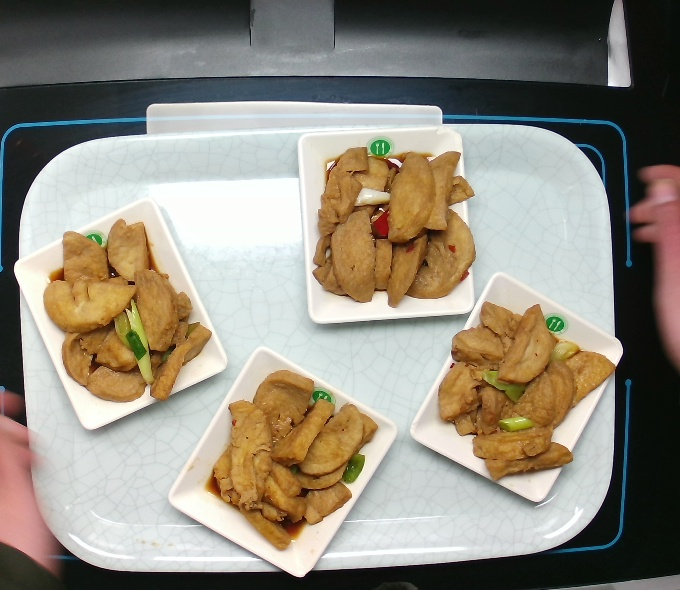wcq-SuJi: (422, 296, 623, 489), (32, 215, 214, 415), (200, 364, 388, 555), (296, 138, 485, 316)
